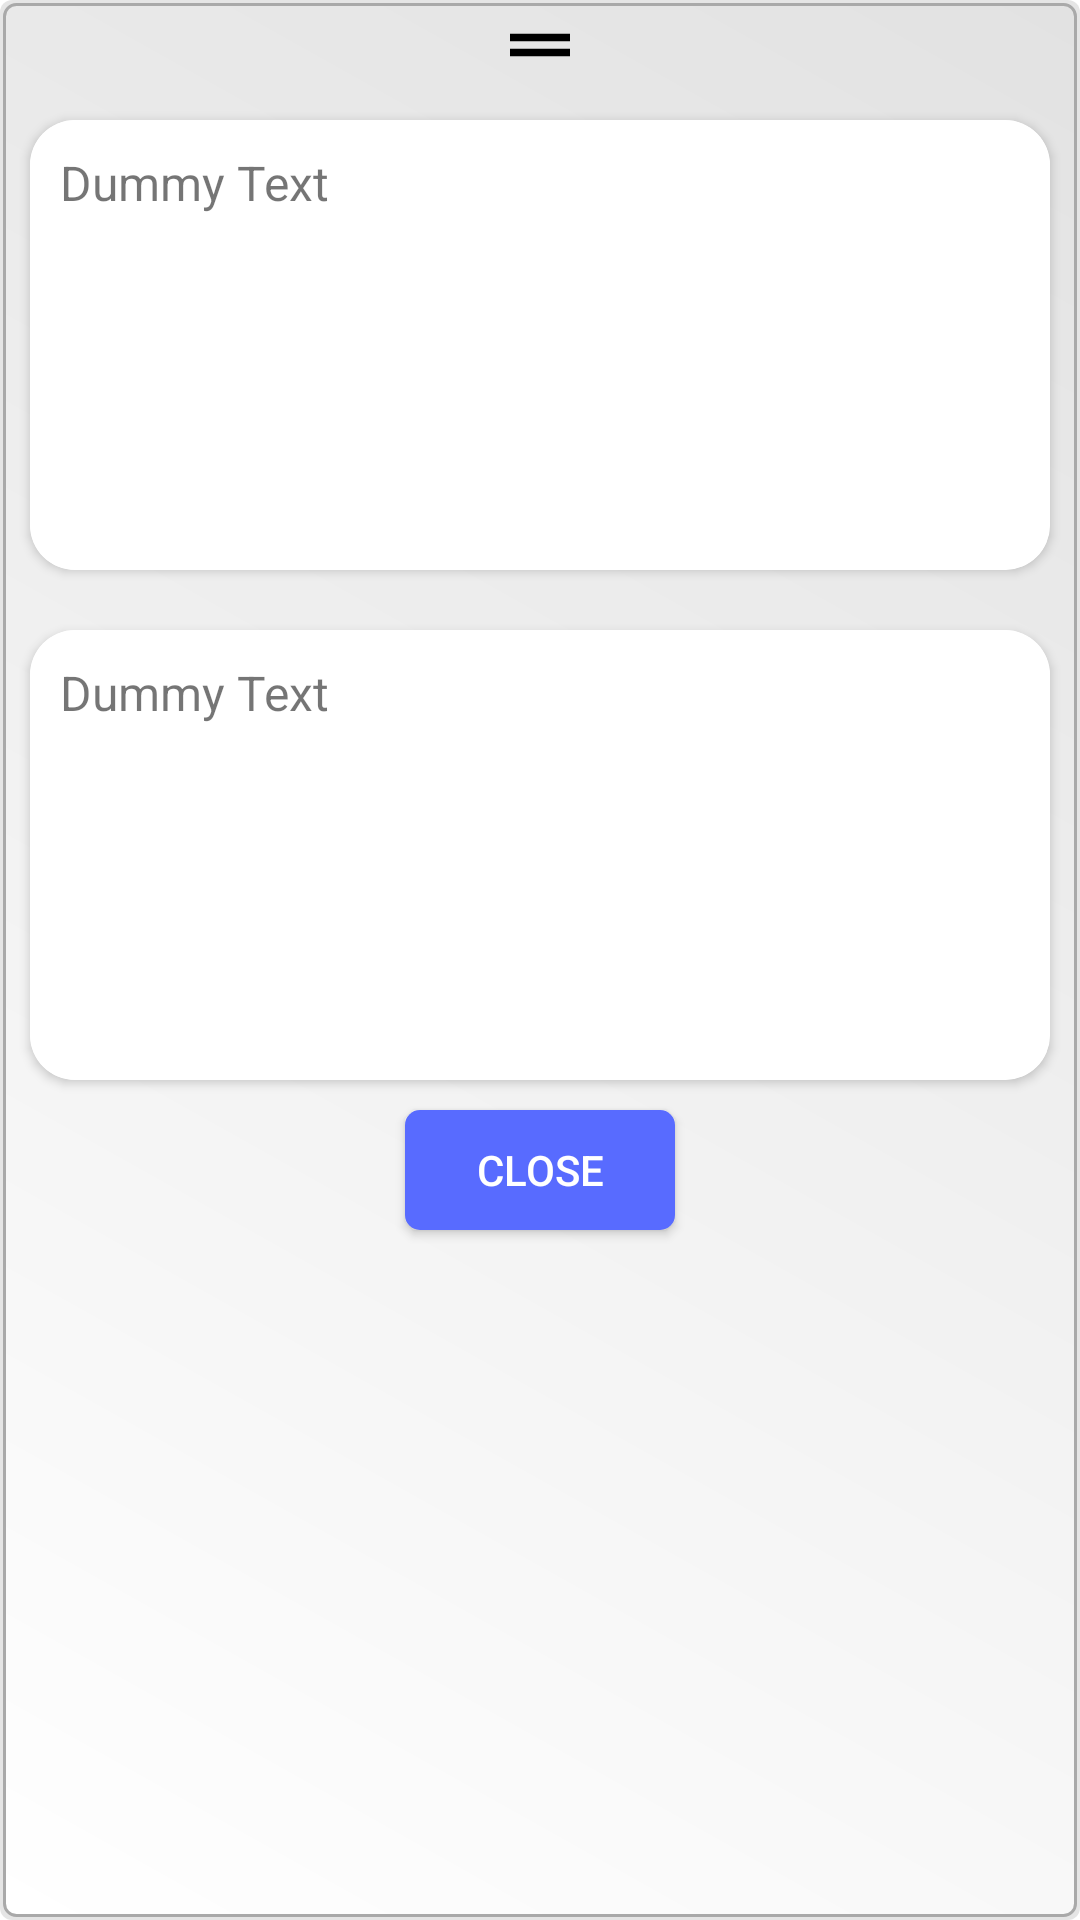

Icons on this 1080px x 1920px Android screen, each with the point to tap as [x,y]:
dragableicon: [540,45]
